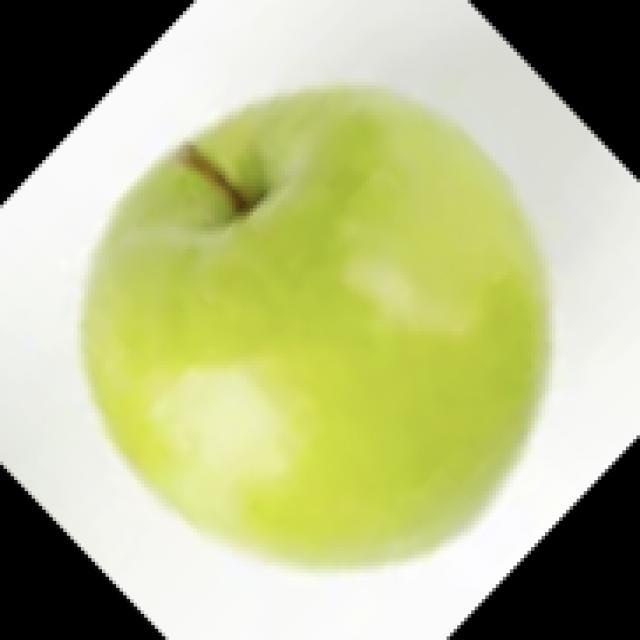Fresh Apple: (109, 91, 554, 532)
